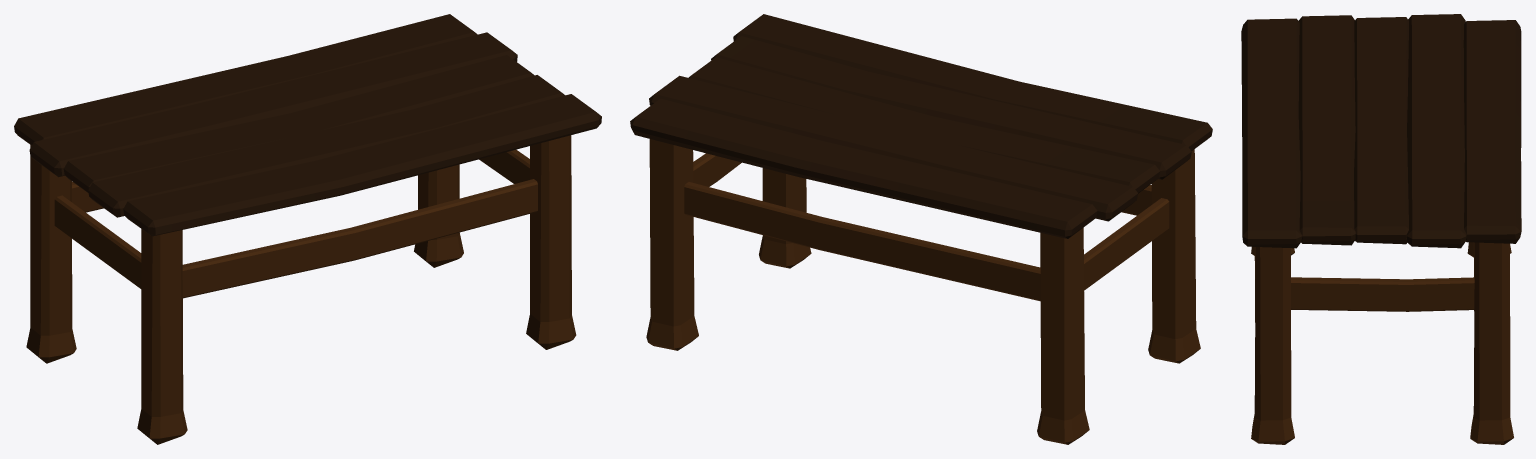
The model's file is Table.FBX.
3 renders of one model, left to right at view 1: azimuth 30°, elevation 25°; view 2: azimuth 150°, elevation 25°; view 3: azimuth 270°, elevation 25°, orthographic. The views are drawn at different scales.
Visible parts, largest first — view 1: Table; view 2: Table; view 3: Table.
Boxes of the visible parts, <box> form: Table: <box>14,14,601,444</box>; Table: <box>630,14,1212,444</box>; Table: <box>1241,14,1521,444</box>.
Bounding box in the file's own units: 239 × 114 × 128.
